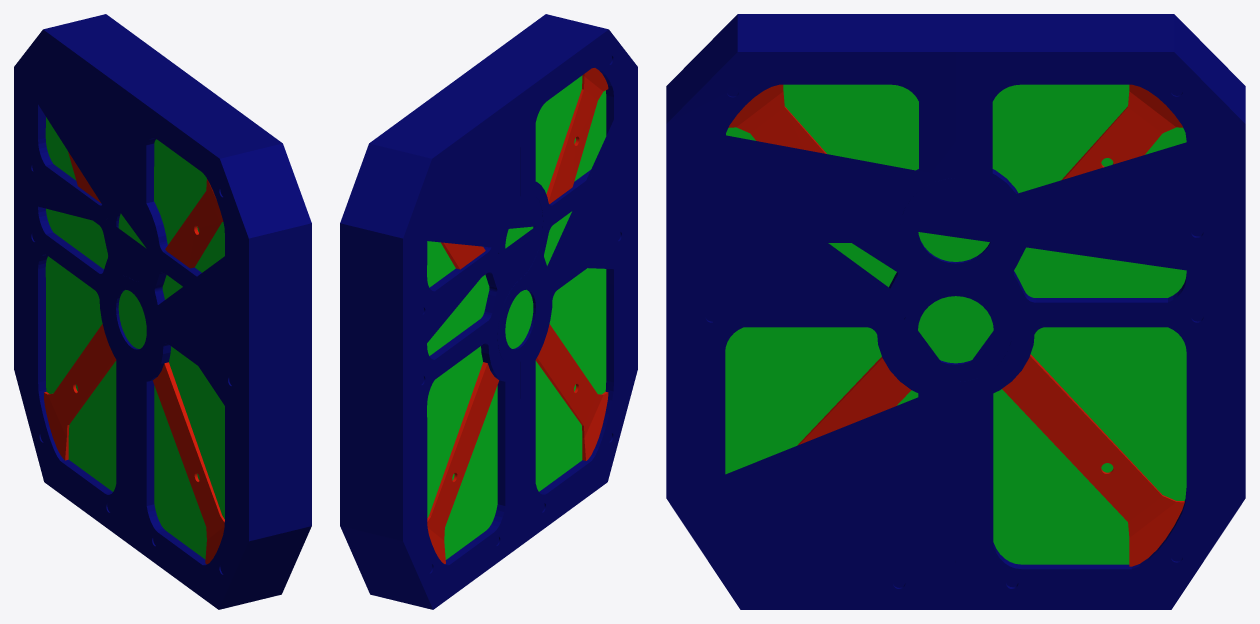
The model's file is Door_Type_2.fbx.
3 views of the same model, side by side, from view 1: azimuth 30°, elevation 25°; view 2: azimuth 150°, elevation 25°; view 3: azimuth 270°, elevation 25° (orthographic). The views are drawn at different scales.
Visible parts, largest first — view 1: DoorType2_RightDoor, DoorType2_LeftDoor; view 2: DoorType2_LeftDoor, DoorType2_RightDoor; view 3: DoorType2_RightDoor, DoorType2_LeftDoor.
Part boxes in pixels (left/top/right/bottom): DoorType2_RightDoor: left=108, top=78, right=311, bottom=609; DoorType2_LeftDoor: left=14, top=14, right=193, bottom=545; DoorType2_LeftDoor: left=340, top=79, right=542, bottom=609; DoorType2_RightDoor: left=457, top=14, right=637, bottom=545; DoorType2_RightDoor: left=666, top=14, right=1012, bottom=609; DoorType2_LeftDoor: left=900, top=14, right=1245, bottom=609.
Size of the model in its own units: 50.1 by 342 by 322.
